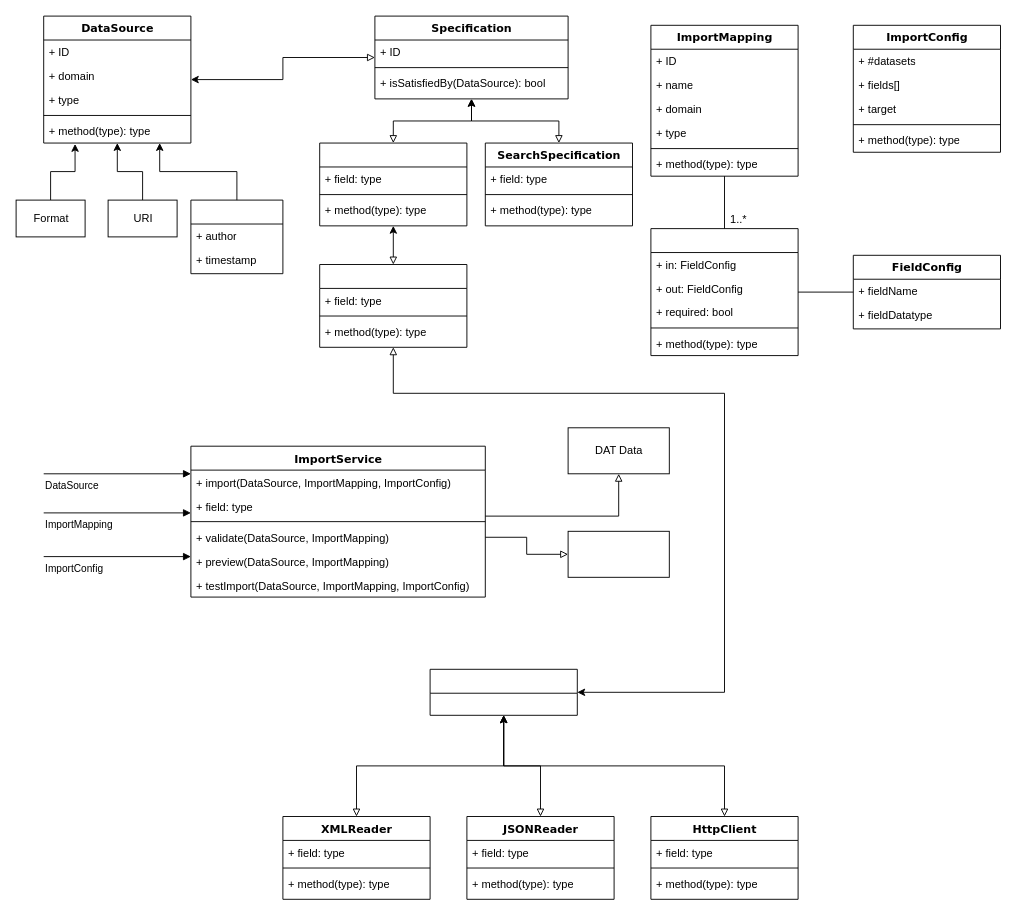
This 1017x915 diagram has some shape labels left out. The shapes that lost their labels are listed below. From the top down, each one's box as (x1, y1, x2, y2) in pixels, then its label:
(319, 142, 467, 226): FormatSpecification
(190, 199, 283, 274): Origin
(319, 264, 467, 347): FormatVerifier
(650, 228, 798, 356): FieldMapping
(567, 530, 669, 577): Import Result
(429, 668, 577, 715): Reader
